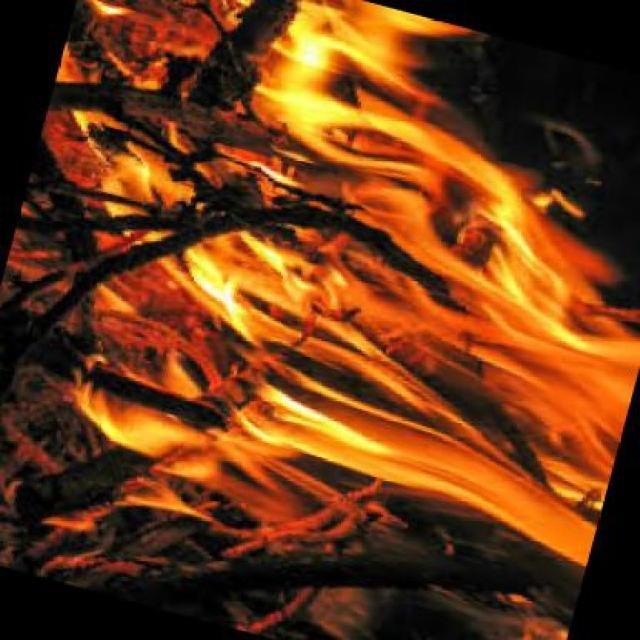Fire: (80, 17, 603, 547)
